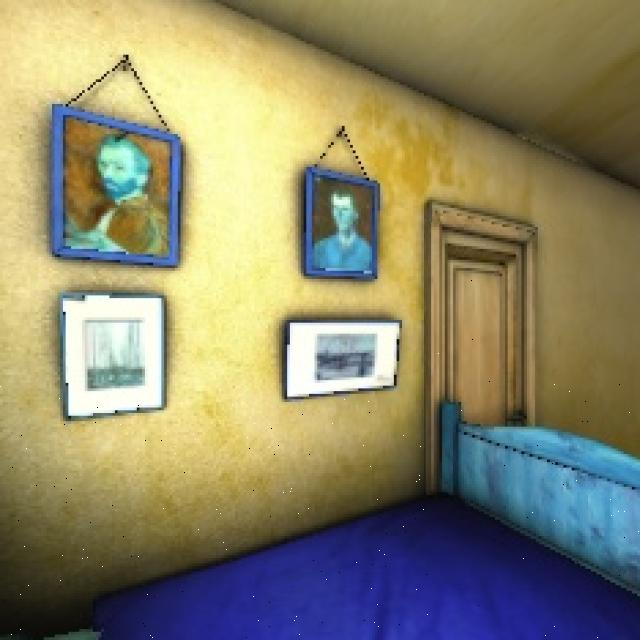bed: (0, 383, 640, 640)
door: (426, 222, 542, 493)
